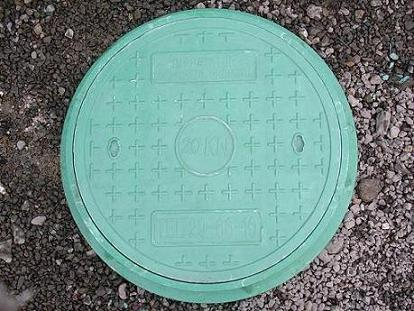wellcover: (47, 19, 359, 300)
